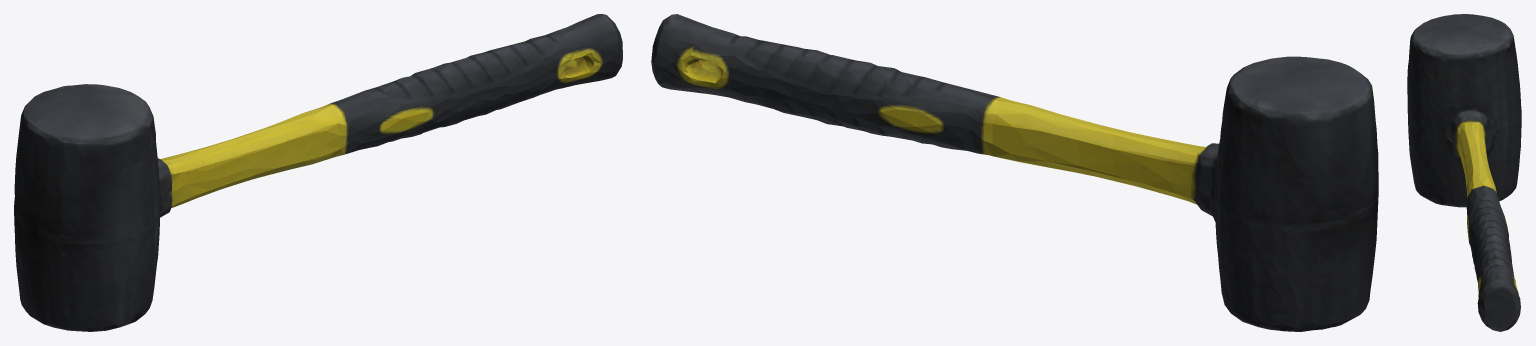
The picture shows the model from 3 angles, left to right: view 1: azimuth 30°, elevation 25°; view 2: azimuth 150°, elevation 25°; view 3: azimuth 270°, elevation 25°; orthographic projection. The views are drawn at different scales.
Size of the model in its own units: 0.2897 by 0.095 by 0.06.
1 material, 1 textured.
